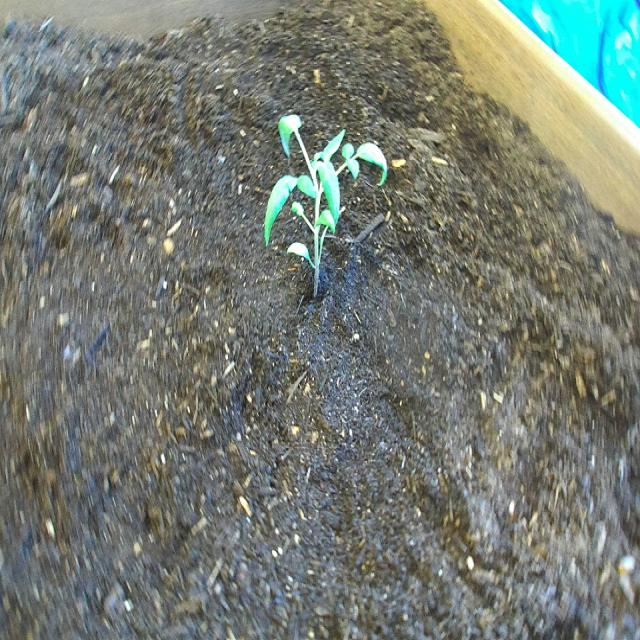Healthy: (261, 103, 391, 306)
